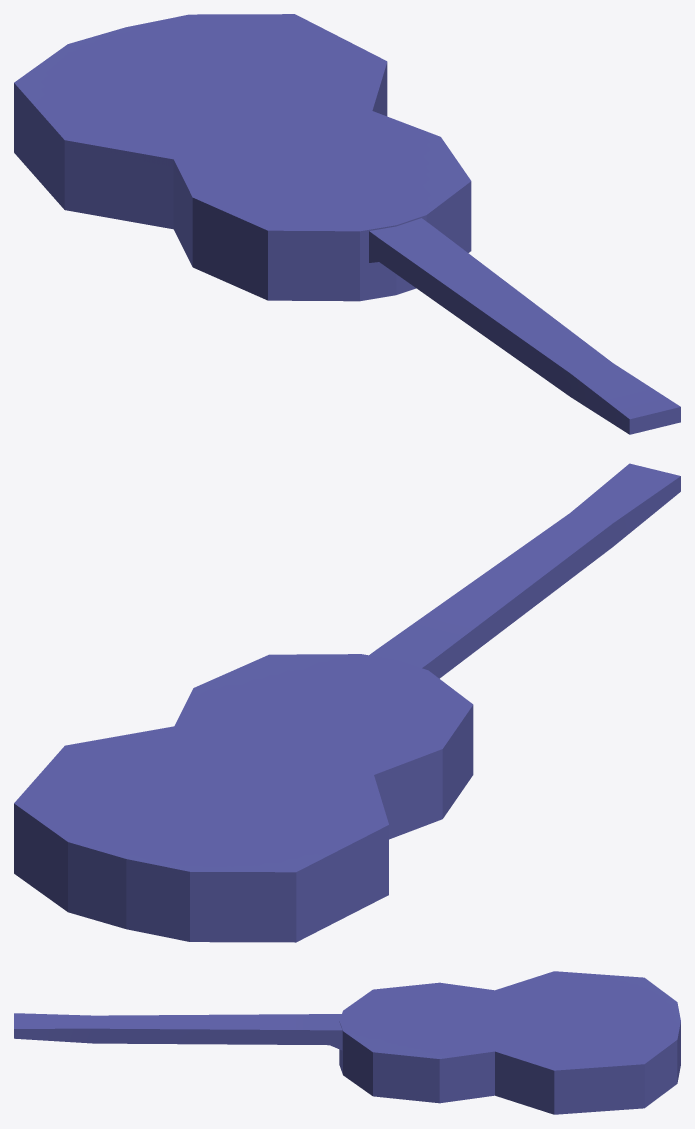
The model's file is Guitar.FBX.
The picture shows the model from 3 angles, top to bottom: view 1: azimuth 30°, elevation 25°; view 2: azimuth 150°, elevation 25°; view 3: azimuth 270°, elevation 25°; orthographic projection. The views are drawn at different scales.
Parts seen in each view (by area): view 1: Guitar; view 2: Guitar; view 3: Guitar.
Boxes of the visible parts, left/top/right/bottom form: Guitar: left=14, top=14, right=680, bottom=434; Guitar: left=14, top=463, right=680, bottom=942; Guitar: left=14, top=971, right=680, bottom=1114.
Bounding box in the file's own units: 21.36 × 4.45 × 60.53.
Materials: 1 (1 with a texture image).
